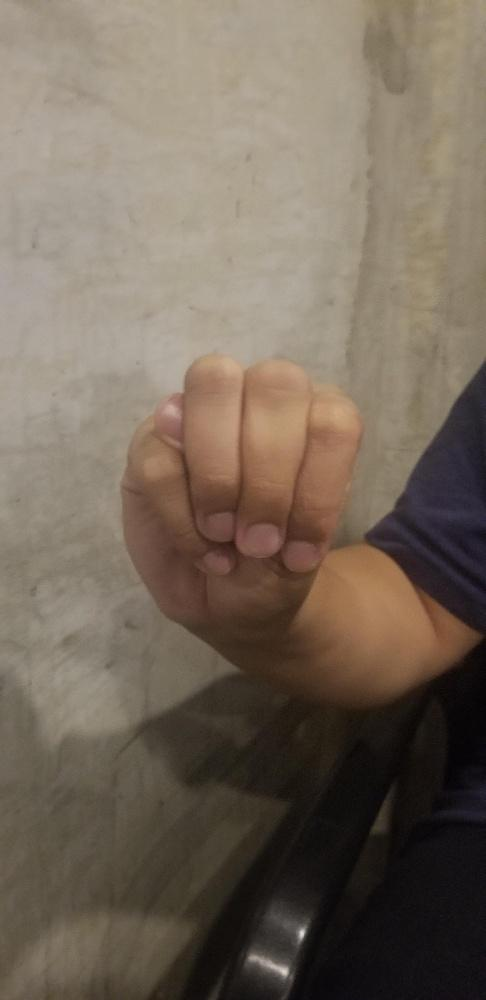m: (122, 352, 357, 628)
